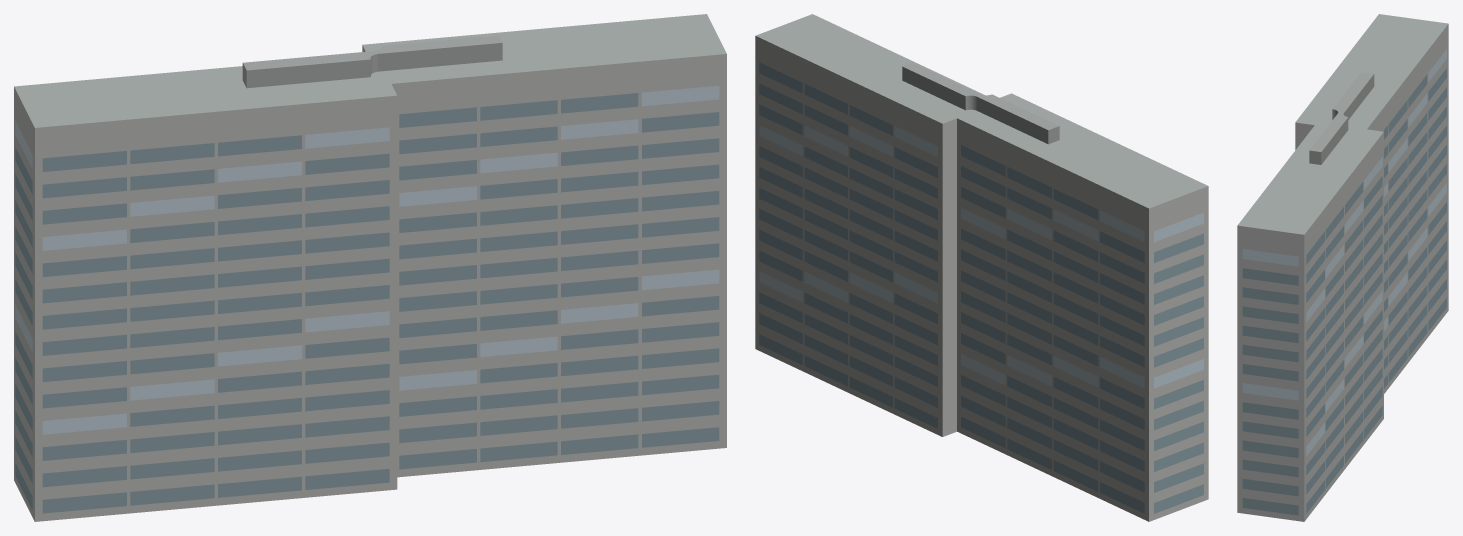
The model's file is fallback-olympic-park-foreon-411.glb.
3 renders of one model, left to right at view 1: azimuth 30°, elevation 25°; view 2: azimuth 150°, elevation 25°; view 3: azimuth 270°, elevation 25°, orthographic. The views are drawn at different scales.
Parts seen in each view (by area): view 1: fallback-olympic-park-foreon-411; view 2: fallback-olympic-park-foreon-411; view 3: fallback-olympic-park-foreon-411.
Part boxes in pixels (bbox=[...]): fallback-olympic-park-foreon-411: bbox=[14, 14, 726, 521]; fallback-olympic-park-foreon-411: bbox=[755, 14, 1208, 521]; fallback-olympic-park-foreon-411: bbox=[1237, 14, 1448, 521].
Bounding box in the file's own units: 75.45 × 47.81 × 30.5.
